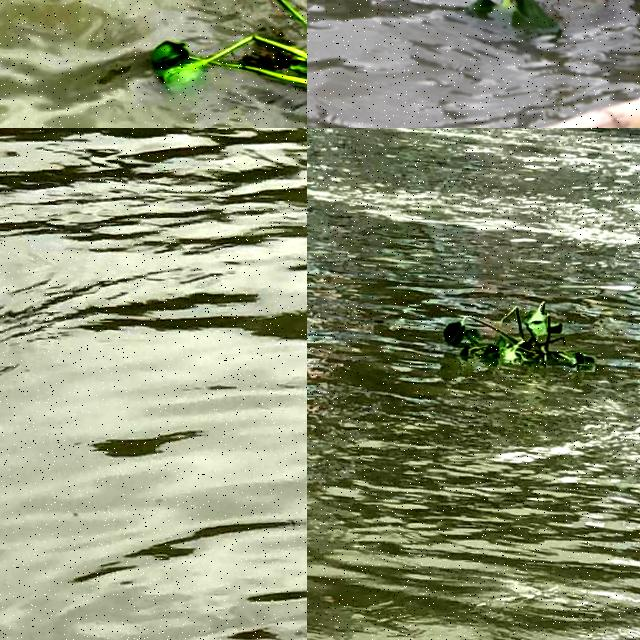water-hyacinth: (154, 1, 308, 129), (442, 289, 599, 383), (388, 1, 640, 42), (308, 129, 338, 160)
